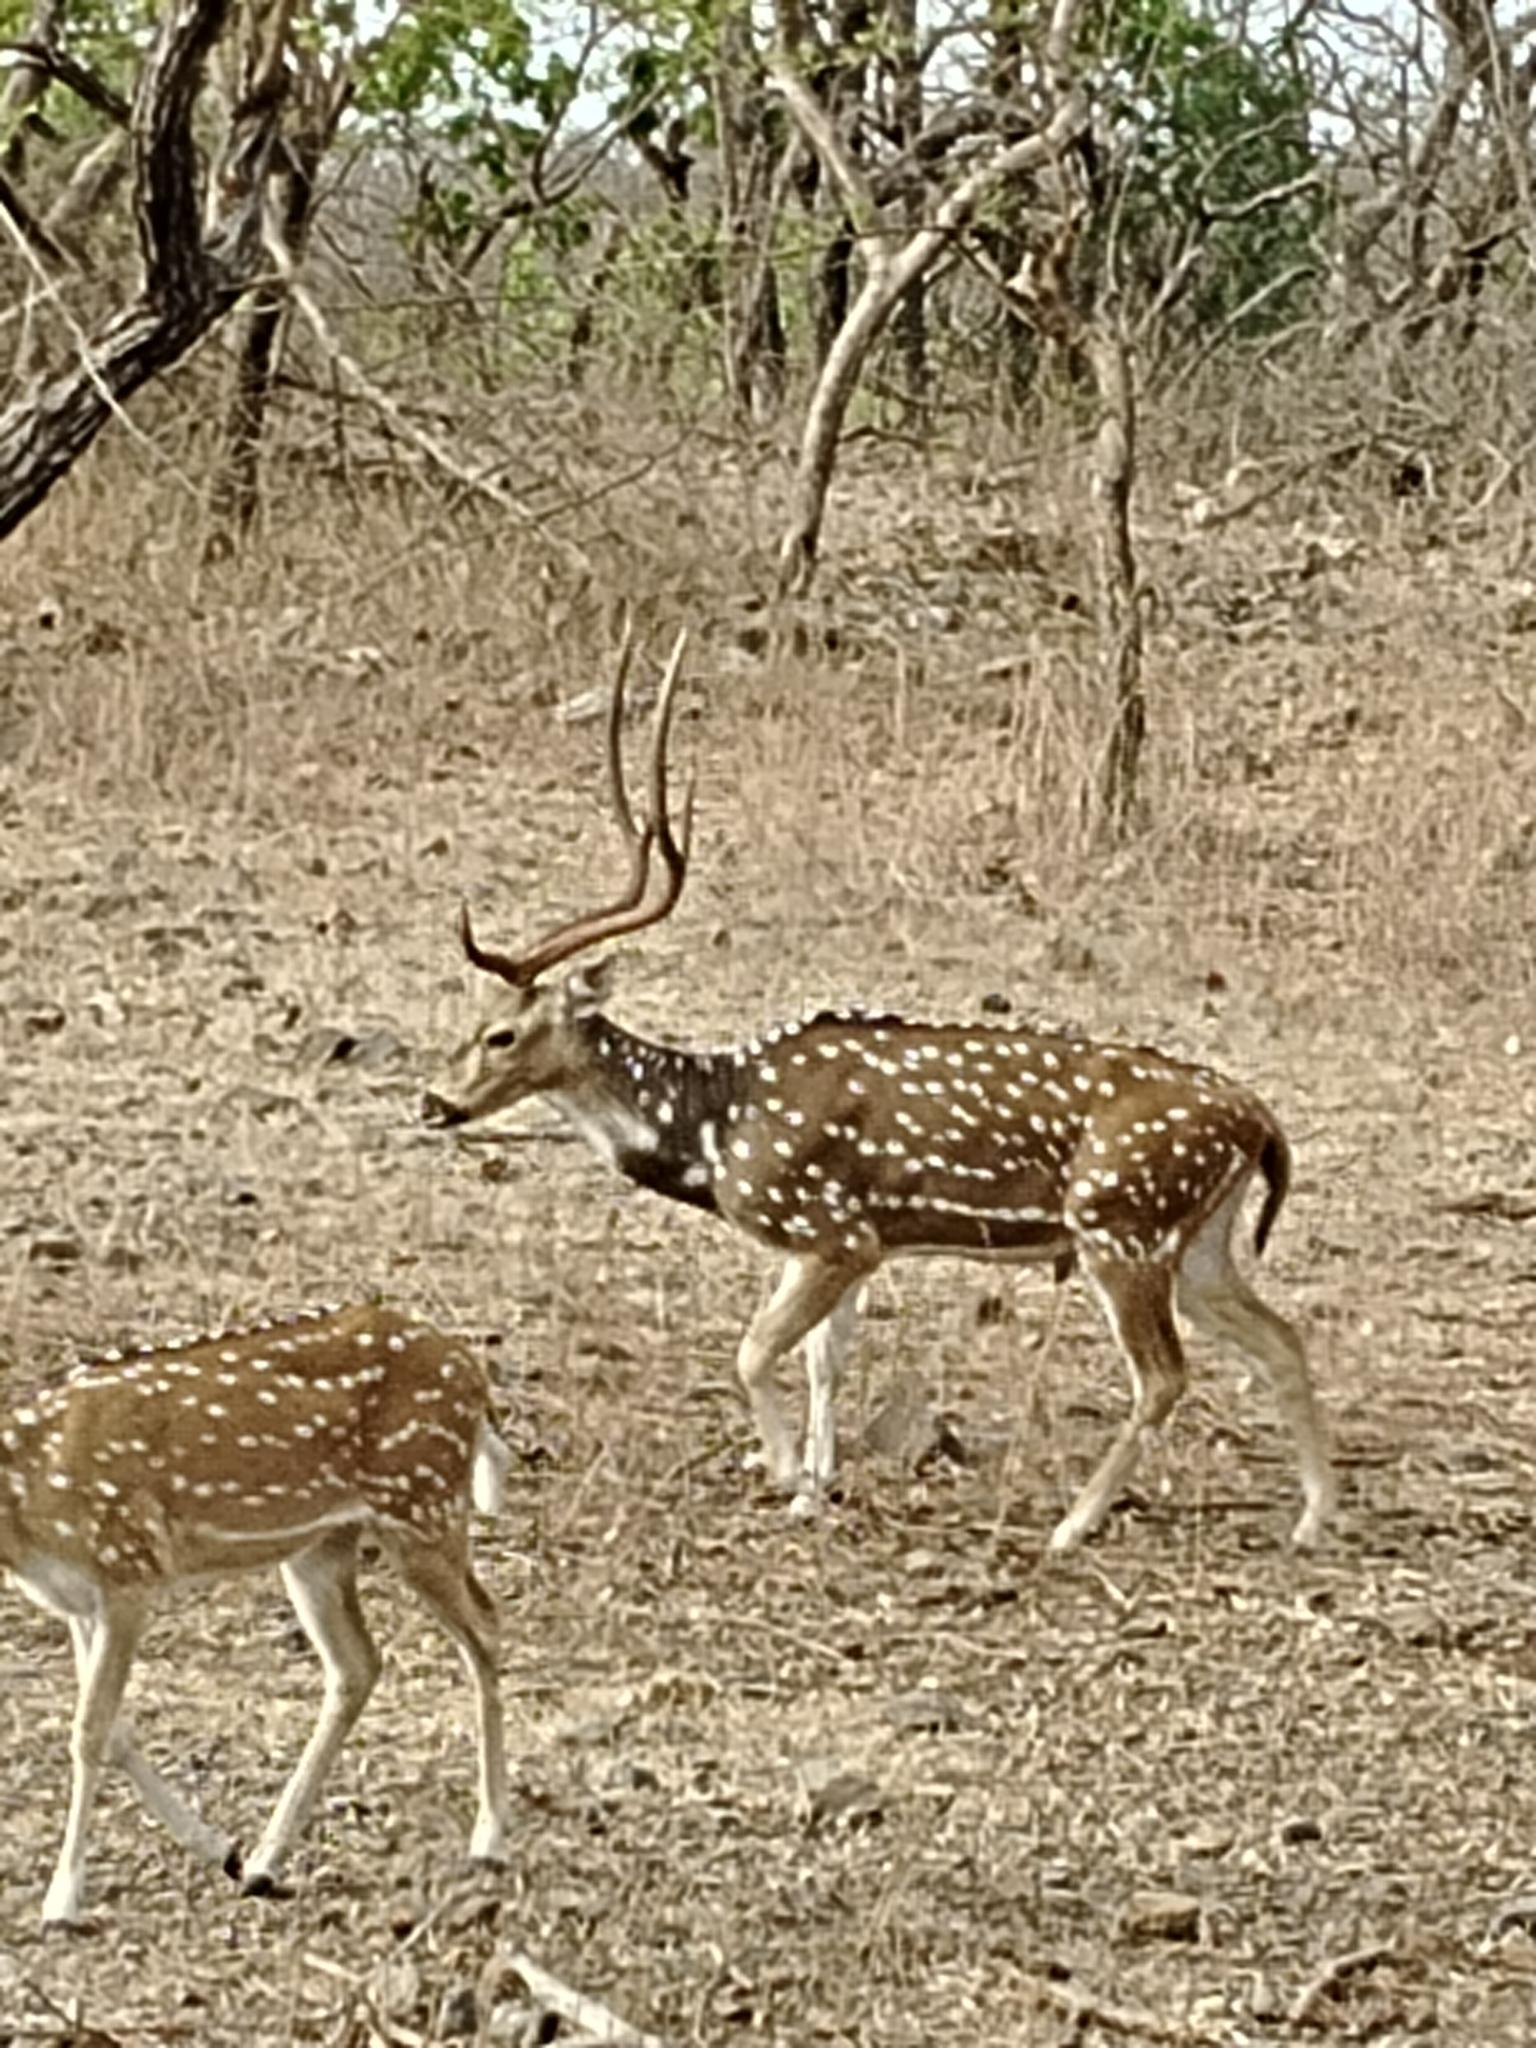Deer: (421, 616, 1329, 1555)
